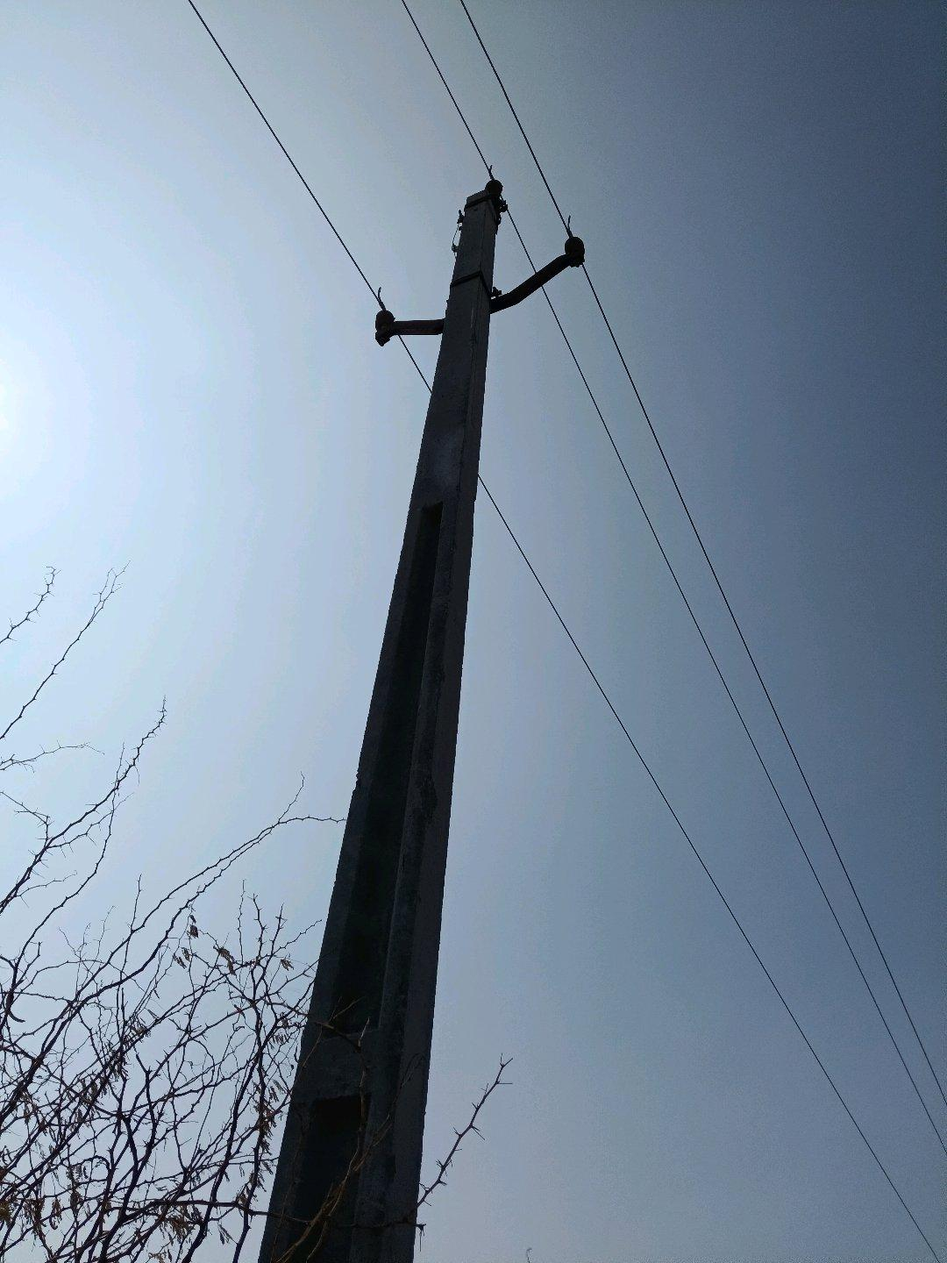{"0" "insulator", "1" "pole", "2" "crossarm", "3" "conductor", "4" "street_: (259, 179, 584, 1262), (218, 49, 351, 256), (355, 262, 357, 267)
